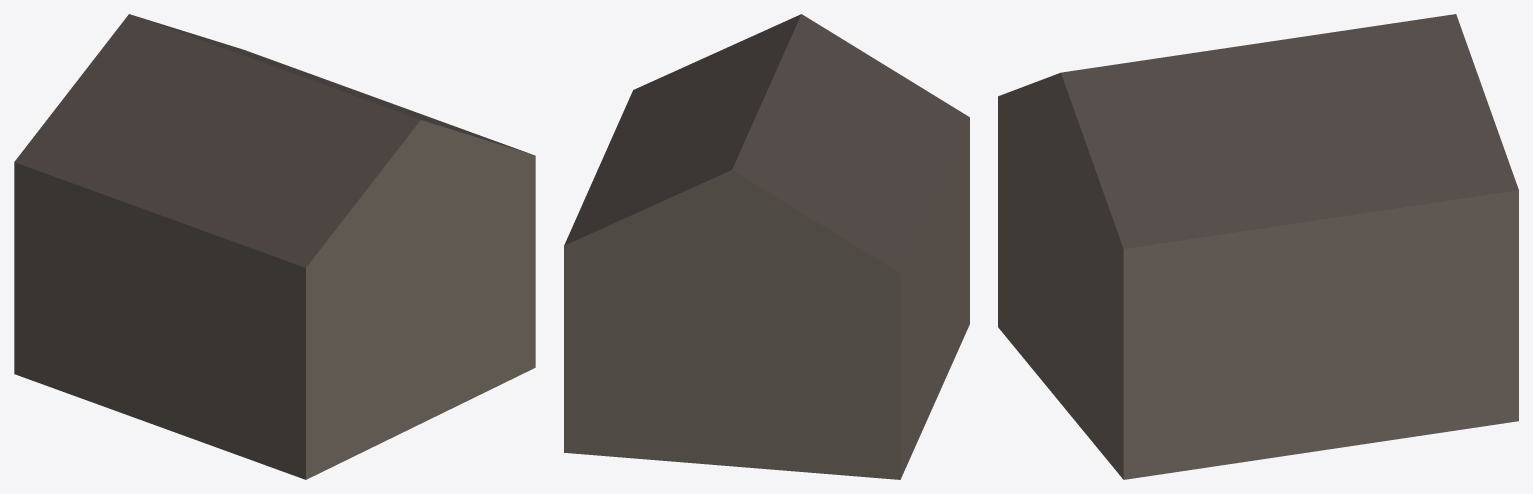
3 renders of one model, left to right at view 1: azimuth 30°, elevation 25°; view 2: azimuth 150°, elevation 25°; view 3: azimuth 270°, elevation 25°, orthographic. The views are drawn at different scales.
Parts seen in each view (by area): view 1: HP-w1198645062; view 2: HP-w1198645062; view 3: HP-w1198645062.
Part boxes in pixels (box(x1,y1,x2,y2)): HP-w1198645062: box(14, 14, 535, 479); HP-w1198645062: box(564, 14, 969, 479); HP-w1198645062: box(998, 14, 1518, 479).
Bounding box in the file's own units: 11.79 × 8.6 × 12.27.
